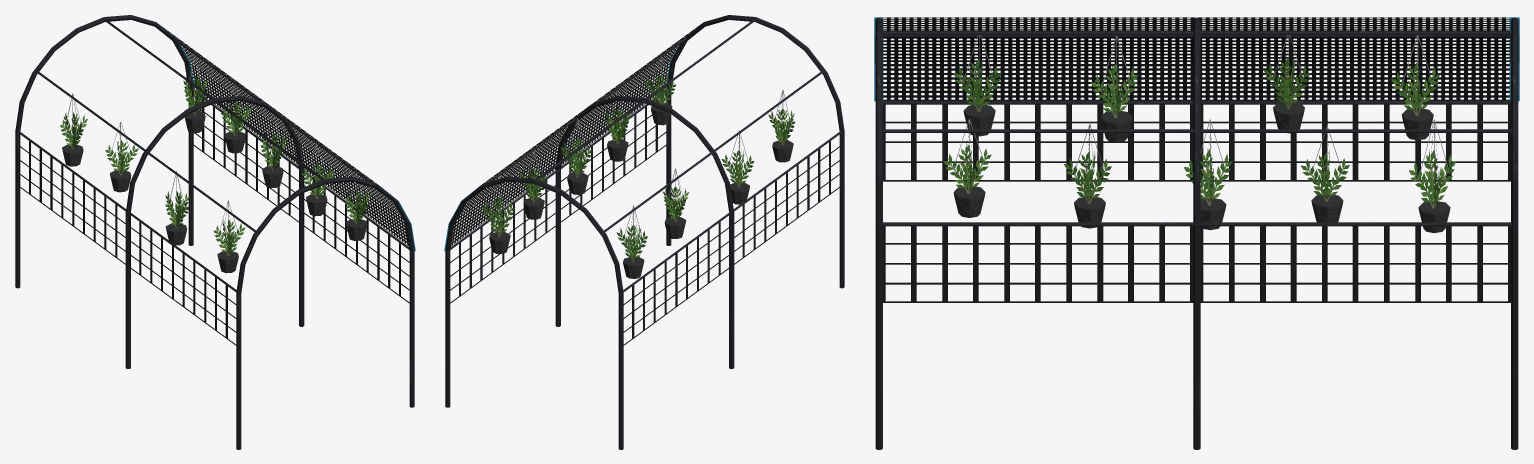
Rendered from lorong_bunga_anggrek_web.glb.
3 renders of one model, left to right at view 1: azimuth 30°, elevation 25°; view 2: azimuth 150°, elevation 25°; view 3: azimuth 270°, elevation 25°, orthographic. The views are drawn at different scales.
Visible parts, largest first — view 1: Lorong_Bunga_Anggrek_Web; view 2: Lorong_Bunga_Anggrek_Web; view 3: Lorong_Bunga_Anggrek_Web.
Part boxes in pixels (x1,y1,x2,y2): Lorong_Bunga_Anggrek_Web: (15,15,415,449); Lorong_Bunga_Anggrek_Web: (444,15,844,449); Lorong_Bunga_Anggrek_Web: (874,17,1519,449).
Size of the model in its own units: 1.76 by 2.36 by 3.86.
1 material, 1 textured.
